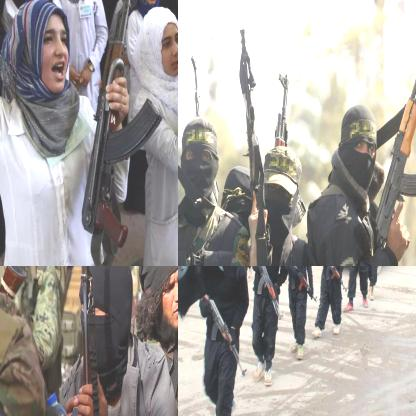rifle: (80, 0, 164, 241), (233, 27, 272, 265), (374, 31, 415, 251), (67, 266, 110, 415), (199, 292, 249, 380), (247, 266, 284, 325), (183, 52, 208, 121), (274, 71, 294, 154), (282, 266, 319, 306), (319, 266, 351, 295)
